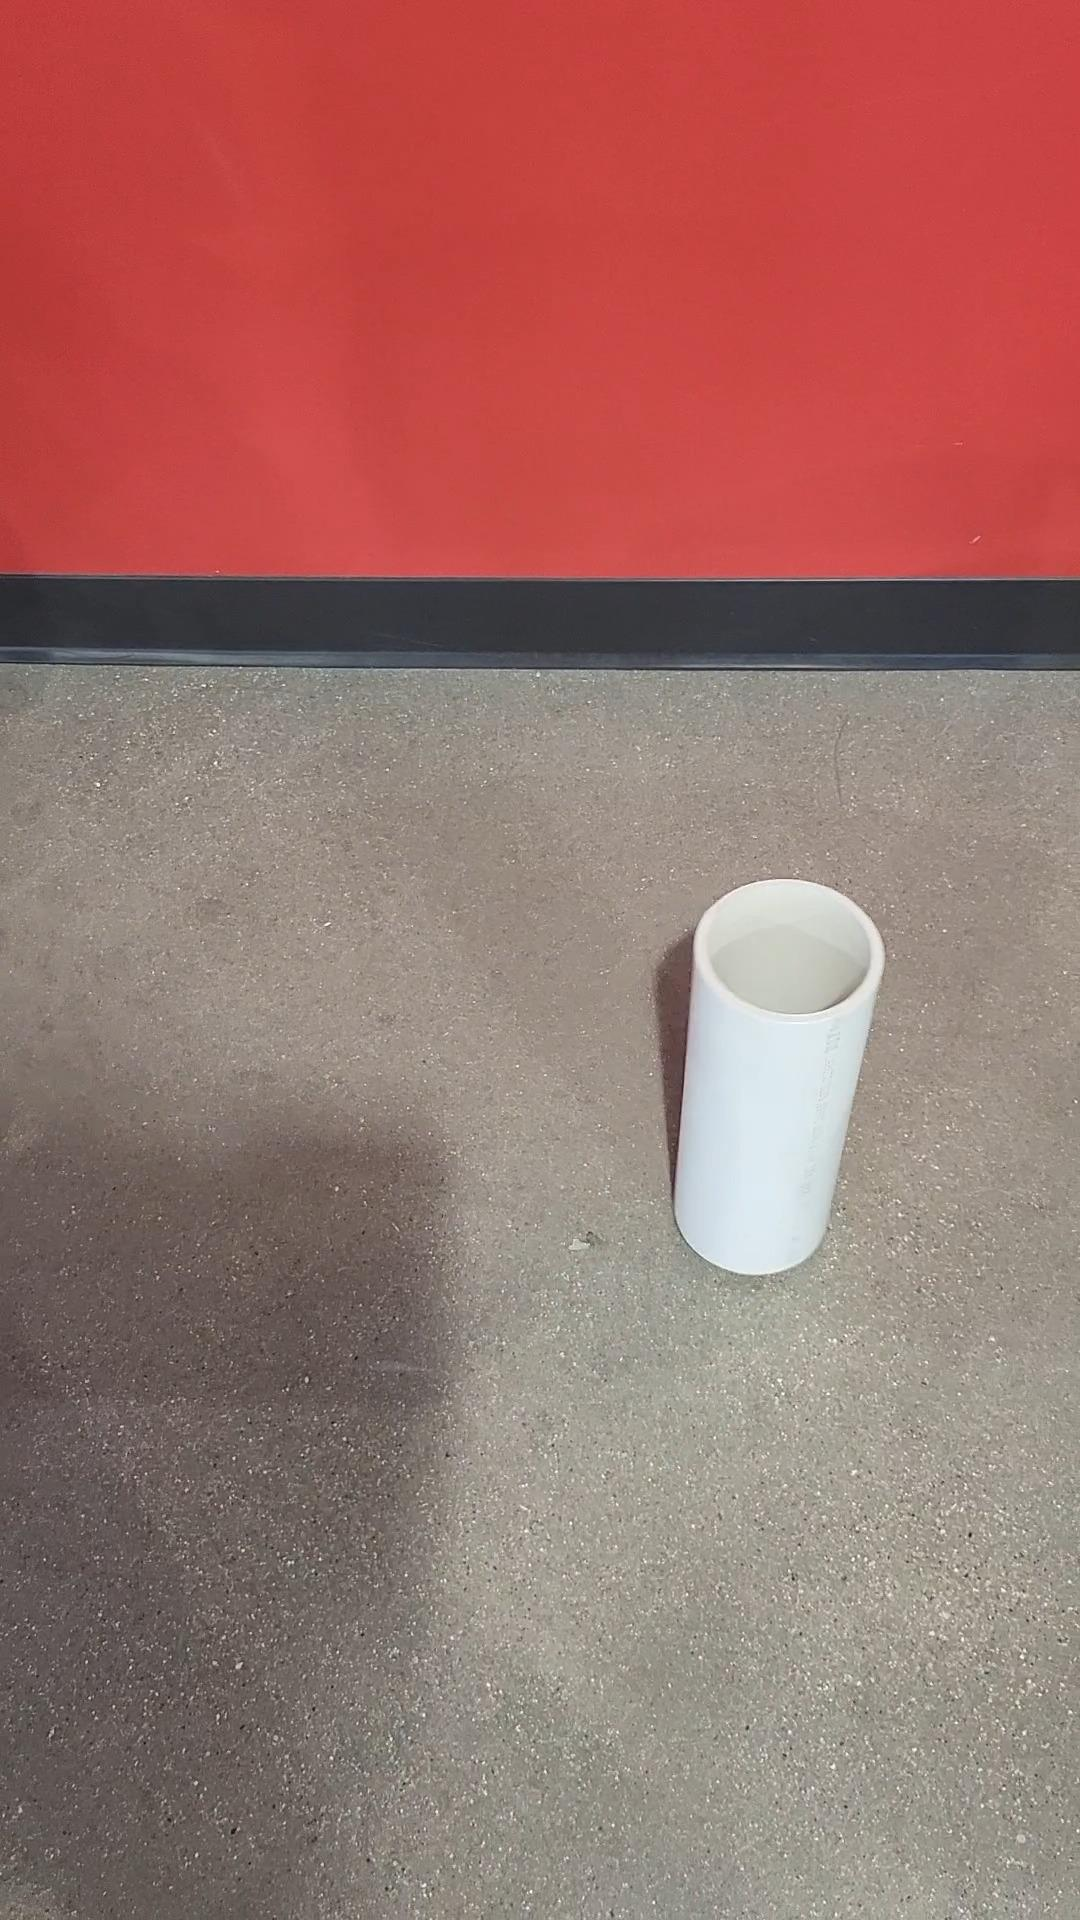coral: (671, 870, 890, 1278)
